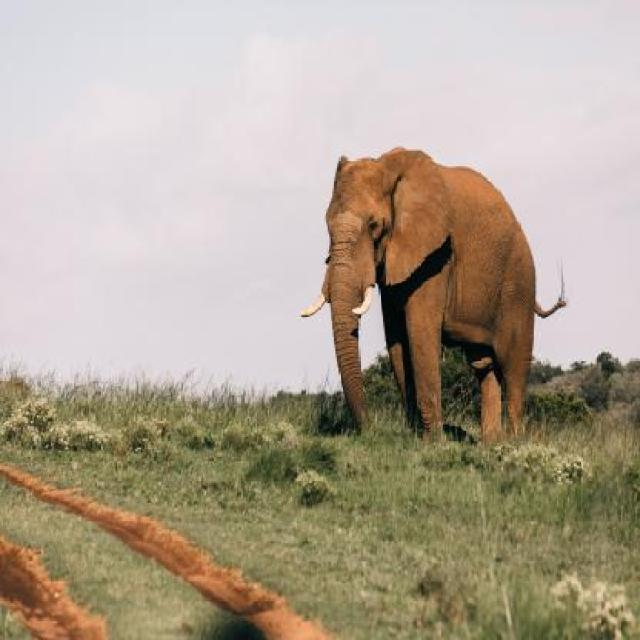Elephant: (300, 142, 572, 452)
